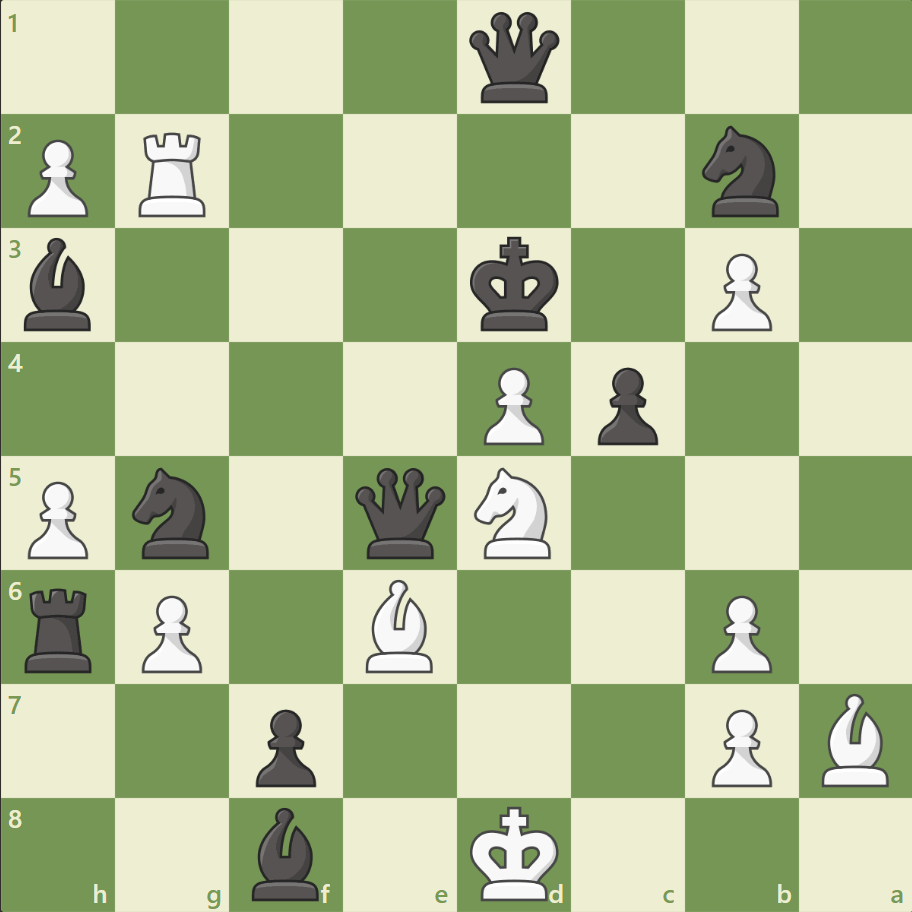B: (812, 687, 896, 790), (358, 574, 442, 676)
K: (465, 798, 565, 906)
N: (465, 461, 562, 564)
P: (701, 700, 776, 791), (701, 586, 776, 677), (133, 586, 208, 677), (20, 473, 95, 564), (474, 359, 549, 450), (701, 246, 776, 337), (20, 132, 95, 223)
R: (133, 125, 215, 222)
b: (244, 801, 328, 904), (17, 233, 101, 336)
k: (465, 231, 565, 339)
n: (124, 461, 222, 564), (692, 121, 789, 223)
p: (247, 700, 322, 791), (588, 359, 662, 450)
q: (351, 463, 450, 562), (464, 9, 563, 108)
r: (19, 579, 102, 676)
